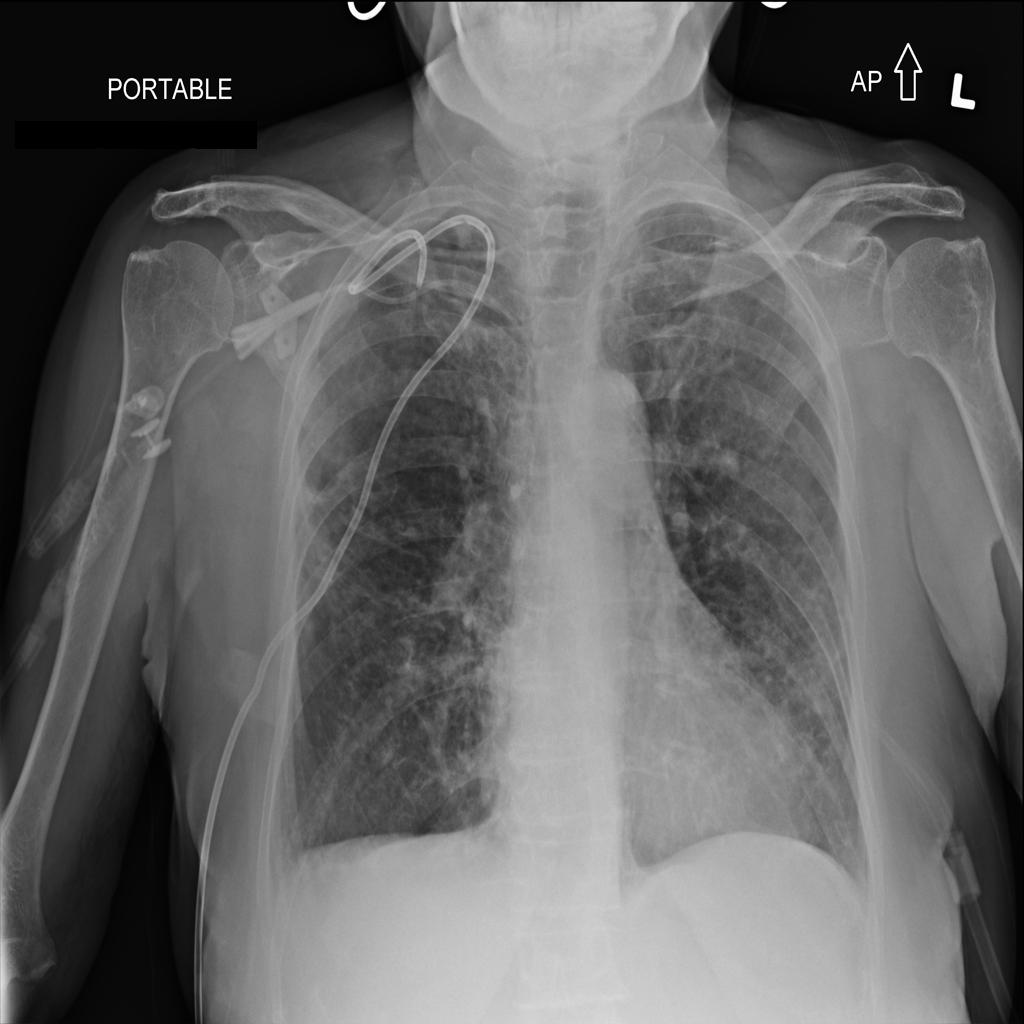nodule: (823, 810, 869, 865)
